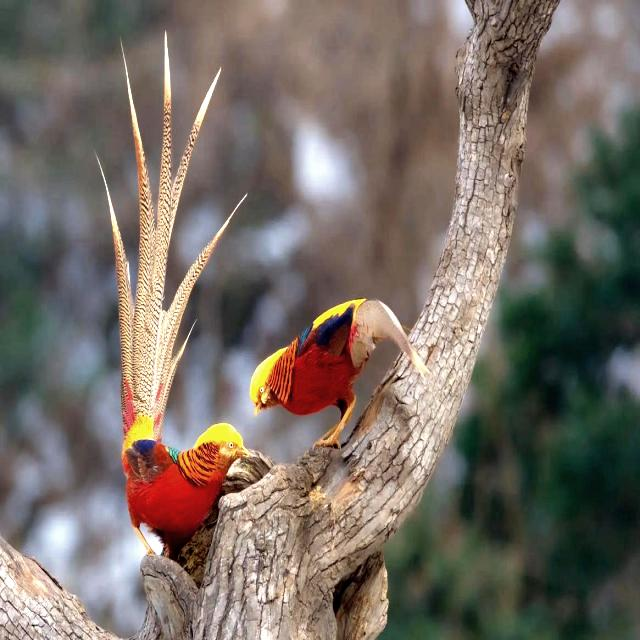Chrysolophus pictus feather: (94, 33, 249, 442), (350, 300, 428, 386)
